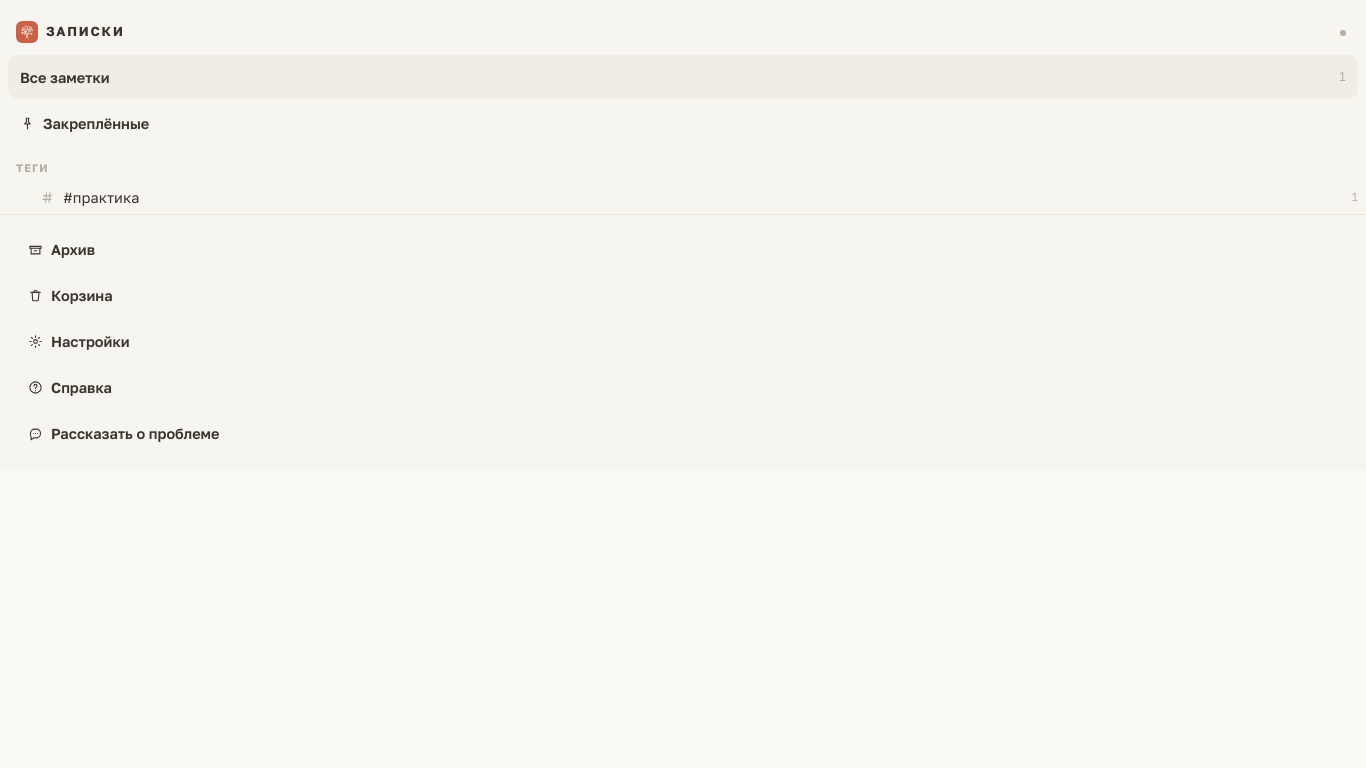
меню тега открывается тем же жестом › долгое нажатие по тегу открывает меню с «Переименовать»
This screenshot has width=1366, height=768.
Right-click the list item at (101, 197), box [0, 180, 1365, 214]
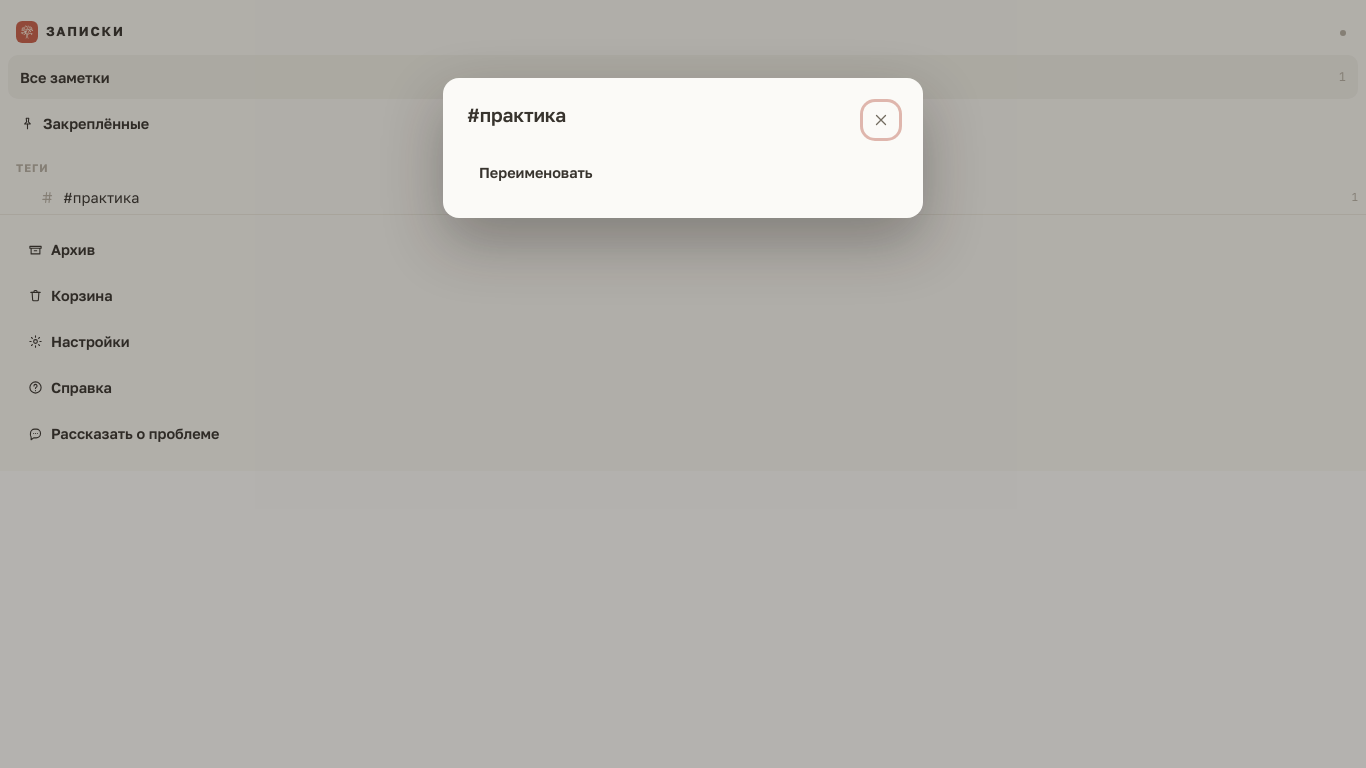
expect the menu item "Переименовать" is shown: met, box [467, 150, 899, 194]
